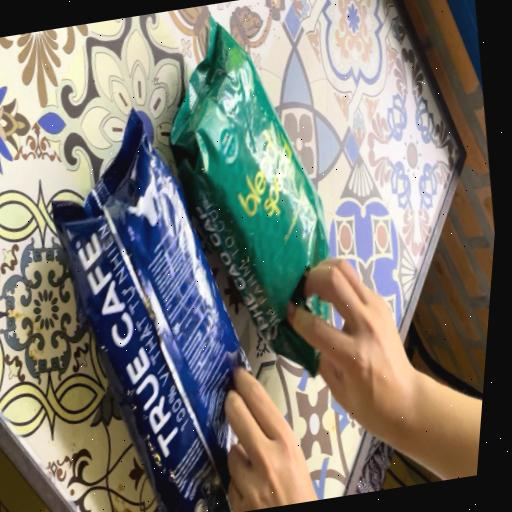cafe_hat: (50, 110, 247, 512)
cafe_xay: (170, 17, 328, 374)
